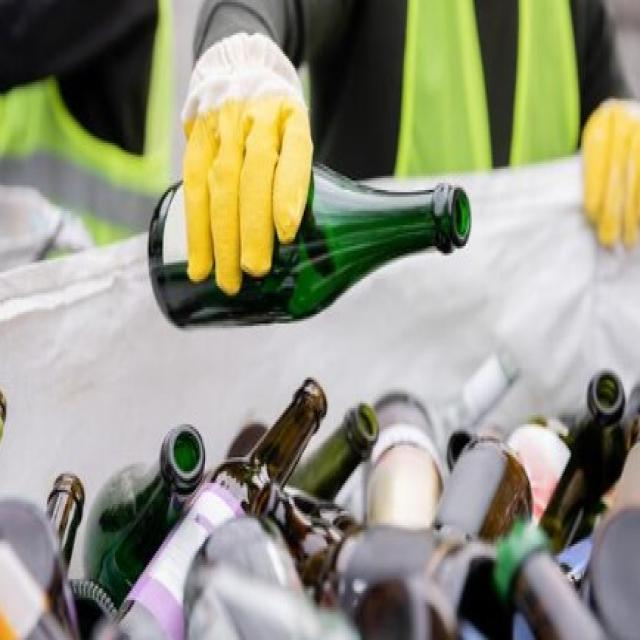electronic: (11, 378, 640, 612), (145, 163, 478, 336)
